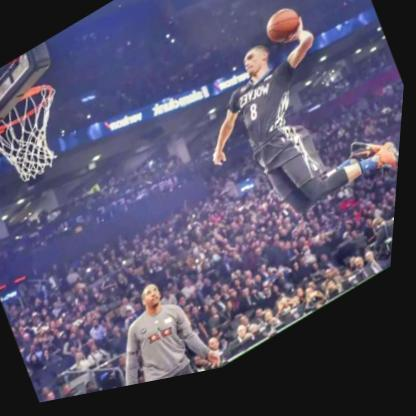basketball: (261, 11, 307, 62)
rim: (0, 72, 85, 197)
